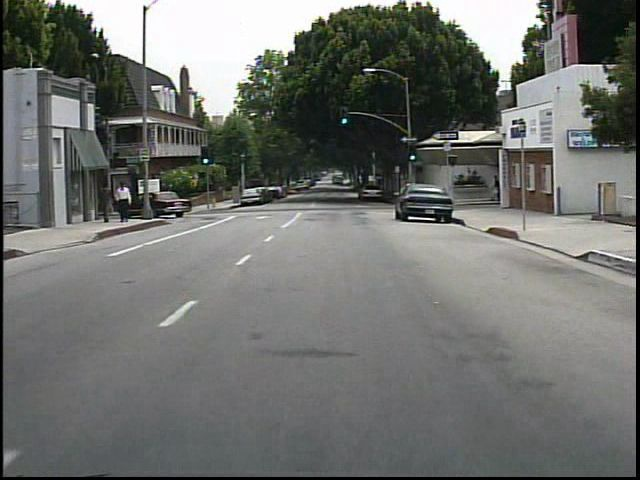person: (101, 182, 119, 225), (118, 181, 135, 224)
